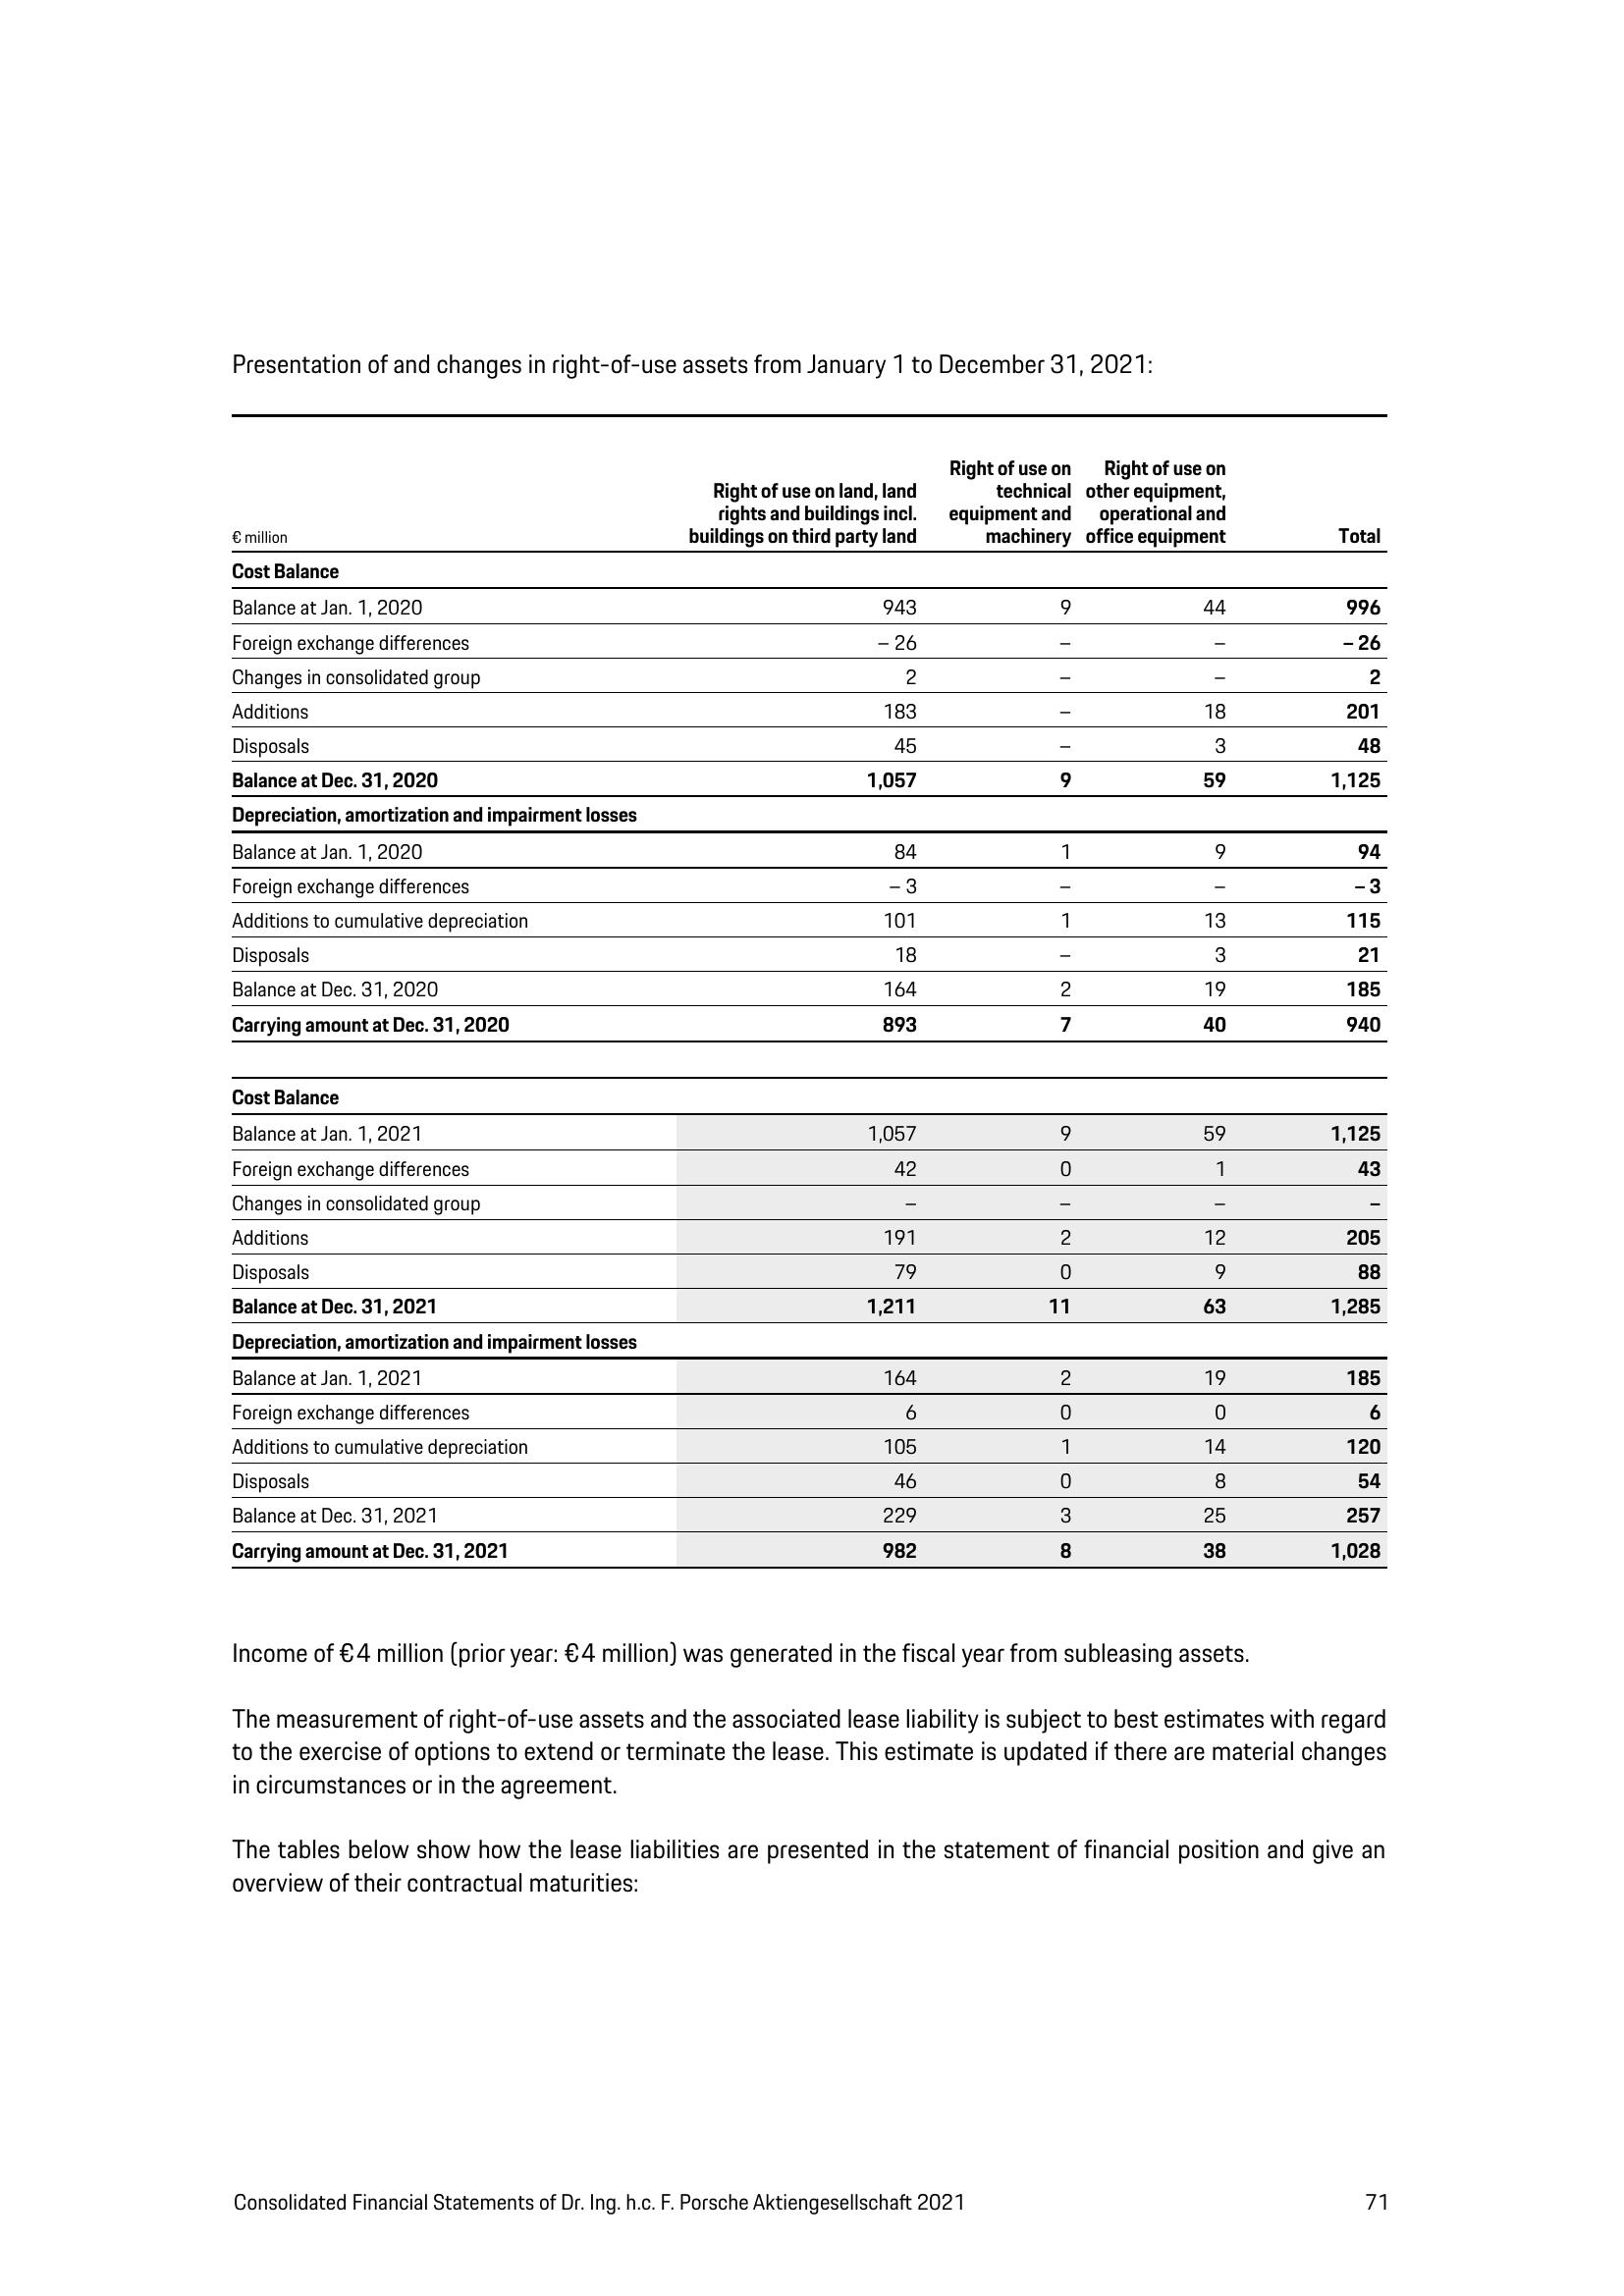Footer: (0, 2143, 1624, 2296)
Header: (0, 0, 1624, 197)
Table: (141, 402, 1506, 1602)
